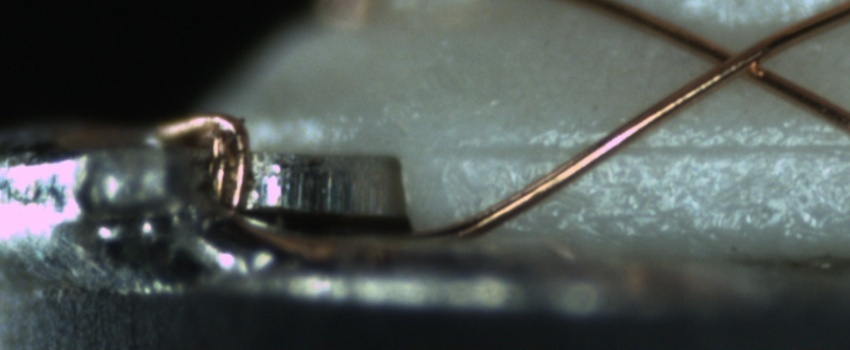CL: (693, 30, 784, 89)
DL: (450, 121, 849, 179)
TE: (148, 105, 256, 217)
